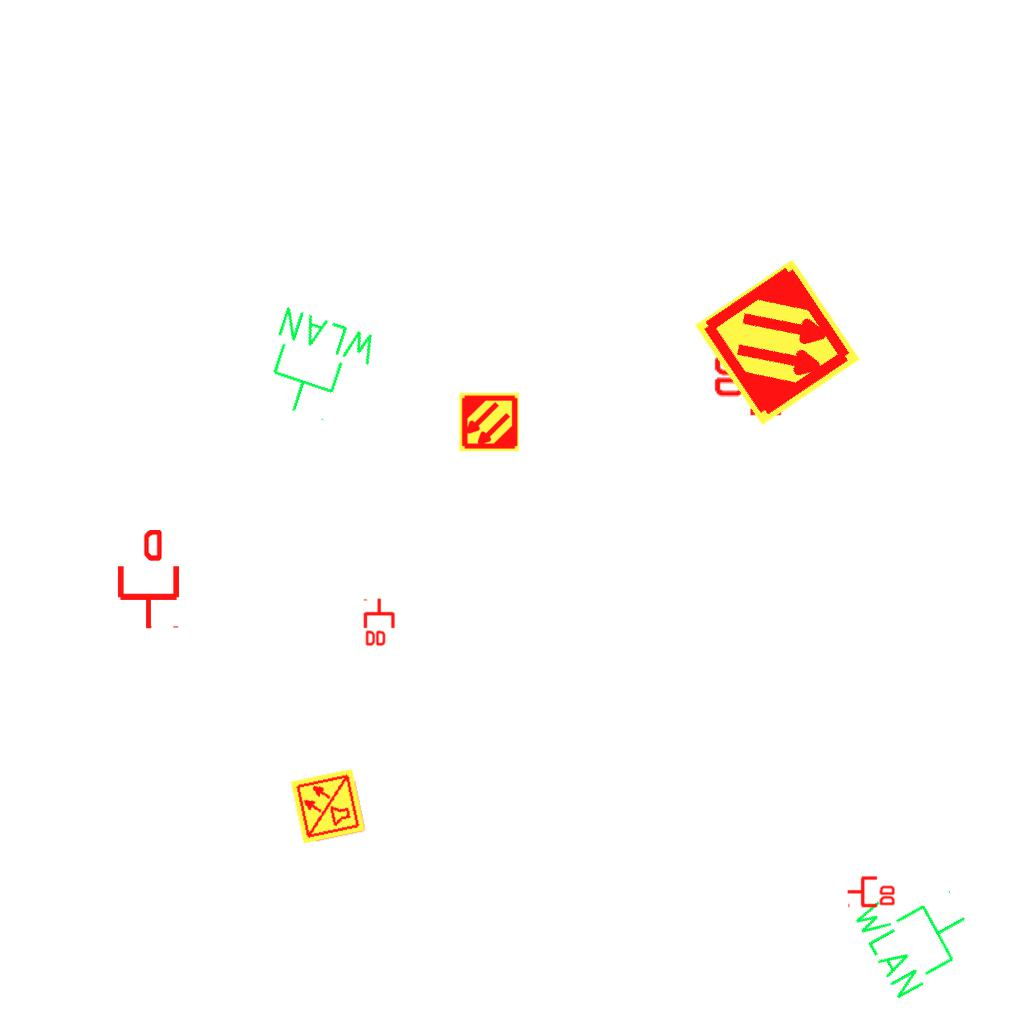ASR_Ansaugrauchmelder: (690, 255, 865, 430), (458, 391, 520, 453)
Datenanschluss_einfach: (114, 530, 183, 630)
Datenanschluss_zweifach: (710, 351, 813, 420), (363, 597, 397, 648), (846, 874, 897, 908)
OKW_Multisensormelder_(Kombination_optischer_Rauch-Kahlenmonoxid_Waerme-Melder): (288, 766, 368, 846)
WLAN: (846, 862, 988, 1005), (252, 301, 384, 434)
